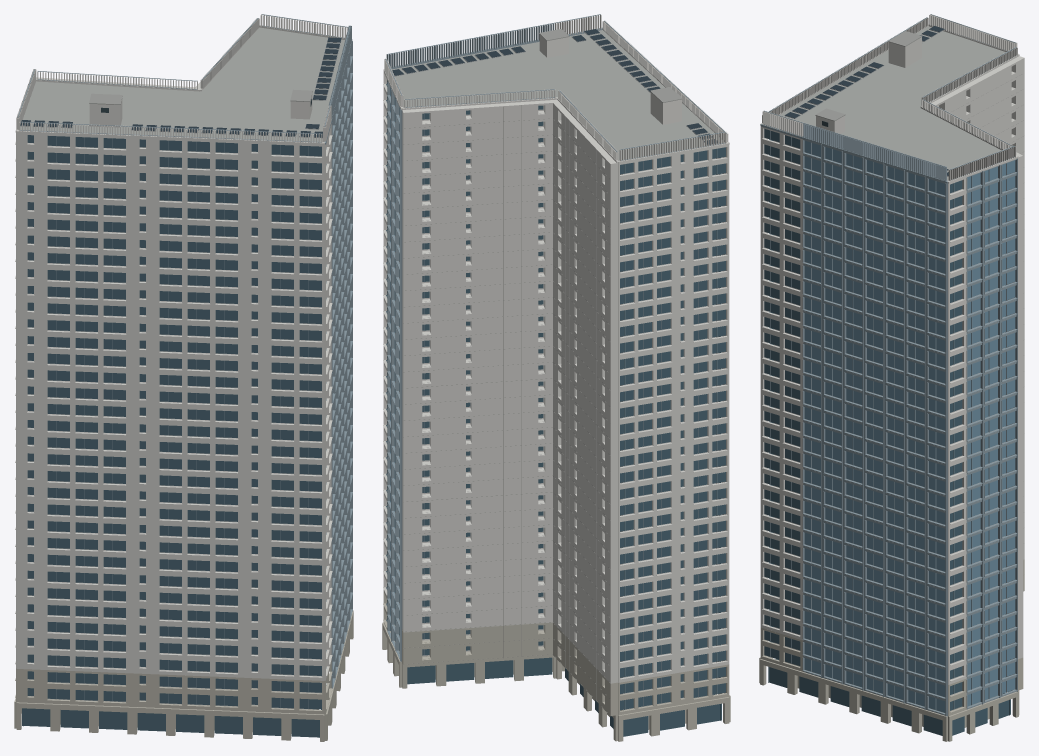
Rendered from bespoke-maple-xi-105.glb.
3 renders of one model, left to right at view 1: azimuth 30°, elevation 25°; view 2: azimuth 150°, elevation 25°; view 3: azimuth 270°, elevation 25°, orthographic. The views are drawn at different scales.
Parts seen in each view (by area): view 1: Maple105_numbered_plan_inset_body, Maple105_e0_end_glass, Maple105_e0_end_unequal_sash, Maple105_numbered_plan_roof, Maple105_recessed_stone_lobby, Maple105_PV_cells, Maple105_PV_frame, Maple105_e1_cladding_joint; view 2: Maple105_numbered_plan_inset_body, Maple105_e0_end_glass, Maple105_numbered_plan_roof, Maple105_e0_end_unequal_sash, Maple105_recessed_stone_lobby, Maple105_e1_cladding_joint, Maple105_PV_cells, Maple105_e3_dark_glass, Maple105_PV_frame; view 3: Maple105_e3_dark_glass, Maple105_e0_end_unequal_sash, Maple105_numbered_plan_inset_body, Maple105_e0_end_glass, Maple105_numbered_plan_roof, Maple105_recessed_stone_lobby, Maple105_e1_cladding_joint, Maple105_PV_cells.
Boxes of the visible parts, box(x1,y1,x2,y2) form: Maple105_numbered_plan_inset_body: box(15, 14, 349, 709); Maple105_e0_end_glass: box(22, 135, 326, 737); Maple105_e0_end_unequal_sash: box(17, 14, 352, 708); Maple105_numbered_plan_roof: box(20, 27, 344, 142); Maple105_recessed_stone_lobby: box(14, 610, 353, 741); Maple105_PV_cells: box(20, 37, 341, 137); Maple105_PV_frame: box(20, 38, 341, 138); Maple105_e1_cladding_joint: box(89, 89, 312, 104); Maple105_numbered_plan_inset_body: box(383, 14, 729, 709); Maple105_e0_end_glass: box(387, 80, 725, 736); Maple105_numbered_plan_roof: box(392, 30, 724, 160); Maple105_e0_end_unequal_sash: box(385, 14, 726, 709); Maple105_recessed_stone_lobby: box(382, 590, 730, 741); Maple105_e1_cladding_joint: box(403, 29, 682, 712); Maple105_PV_cells: box(392, 29, 717, 144); Maple105_e3_dark_glass: box(386, 84, 399, 650); Maple105_PV_frame: box(394, 31, 719, 145); Maple105_e3_dark_glass: box(804, 140, 1015, 712); Maple105_e0_end_unequal_sash: box(760, 14, 1017, 716); Maple105_numbered_plan_inset_body: box(760, 14, 1024, 697); Maple105_e0_end_glass: box(764, 129, 1010, 735); Maple105_numbered_plan_roof: box(780, 26, 1005, 180); Maple105_recessed_stone_lobby: box(759, 560, 1024, 741); Maple105_e1_cladding_joint: box(803, 31, 1023, 714); Maple105_PV_cells: box(785, 26, 948, 175).
Bounding box in the file's own units: 65.31 × 111 × 46.09.
